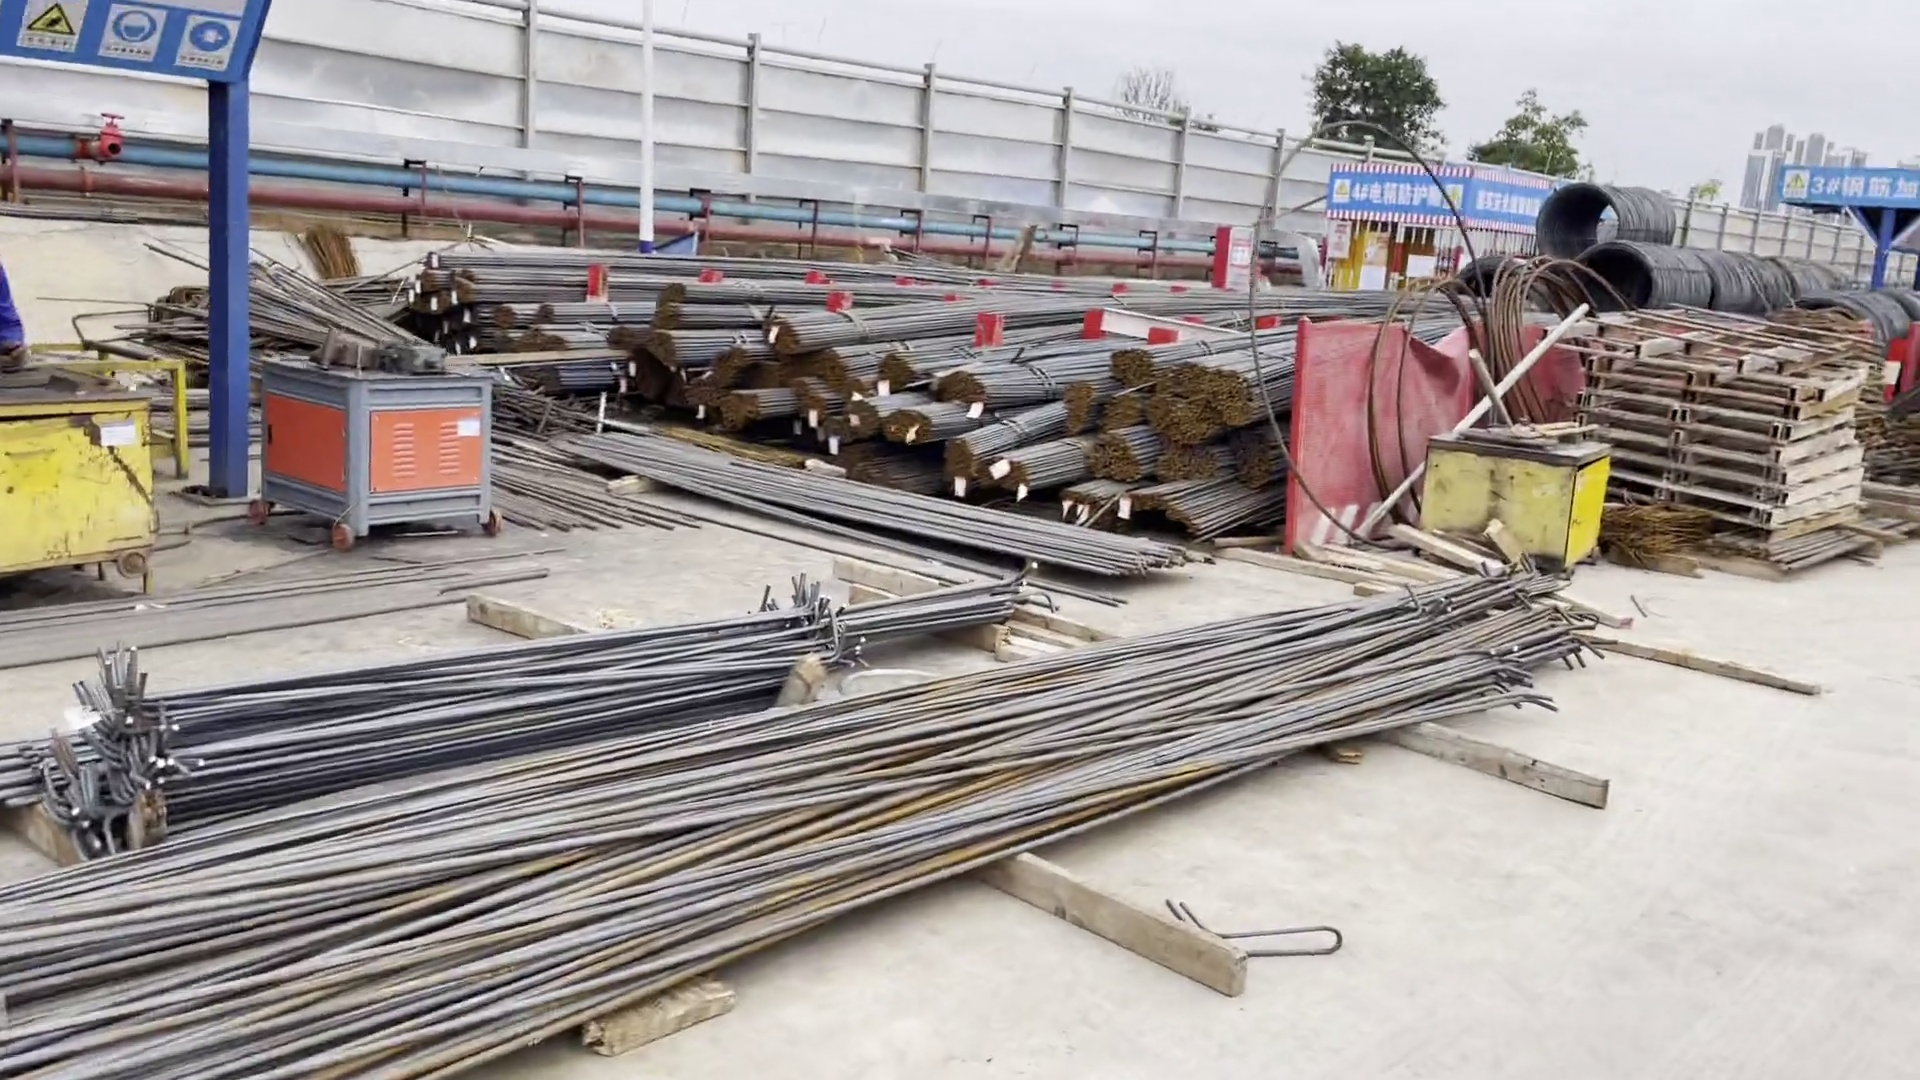rebar: (1146, 305, 1466, 436), (766, 284, 1352, 343), (785, 287, 1135, 356), (938, 390, 1106, 469), (1112, 322, 1312, 384), (433, 247, 914, 272), (1130, 469, 1284, 541), (945, 347, 1122, 406), (984, 434, 1106, 502), (659, 278, 982, 301), (530, 298, 746, 326), (1048, 465, 1158, 518), (870, 400, 984, 450), (616, 324, 773, 353), (1095, 423, 1171, 483), (711, 388, 796, 436), (646, 301, 787, 330), (1226, 425, 1287, 491), (818, 396, 889, 448), (822, 349, 890, 396), (1156, 440, 1218, 491), (1101, 382, 1160, 434), (861, 351, 931, 392), (709, 338, 766, 385), (1062, 376, 1116, 425), (791, 380, 847, 419), (489, 299, 553, 331), (684, 376, 736, 414), (405, 286, 442, 320), (423, 269, 458, 293), (440, 290, 471, 313), (413, 280, 431, 299)
